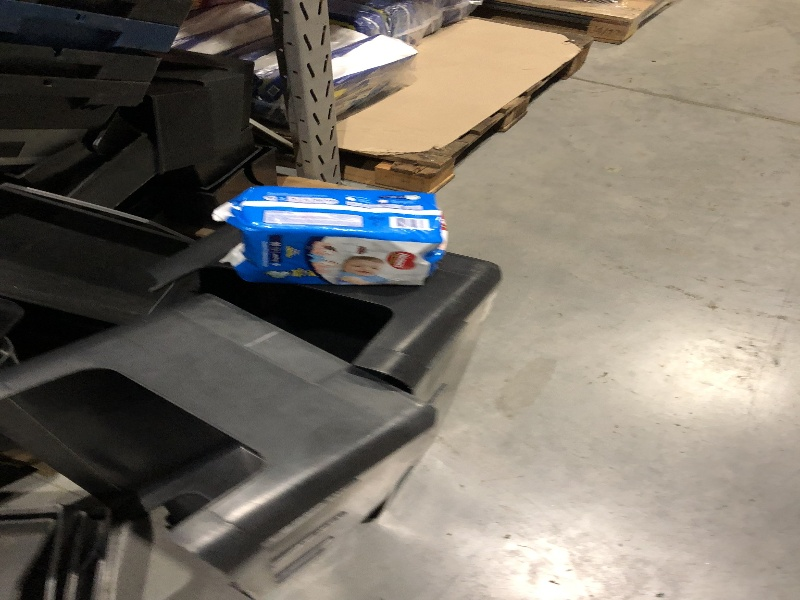fralda: (237, 189, 449, 288)
